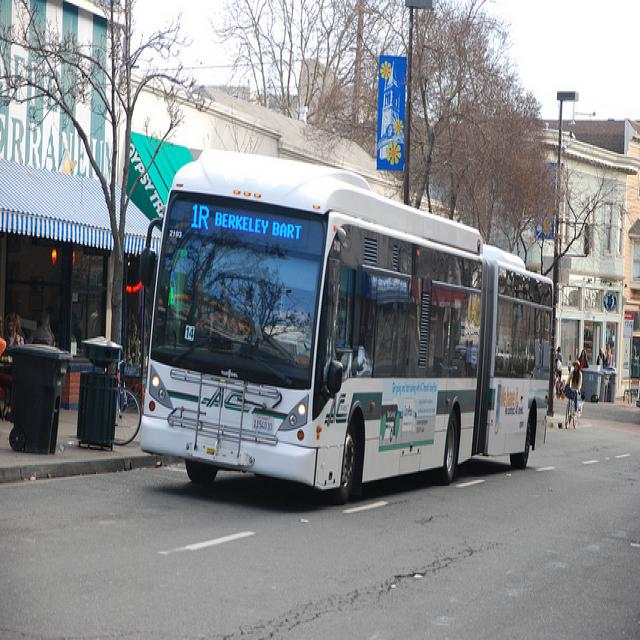AB: (133, 143, 561, 516)
